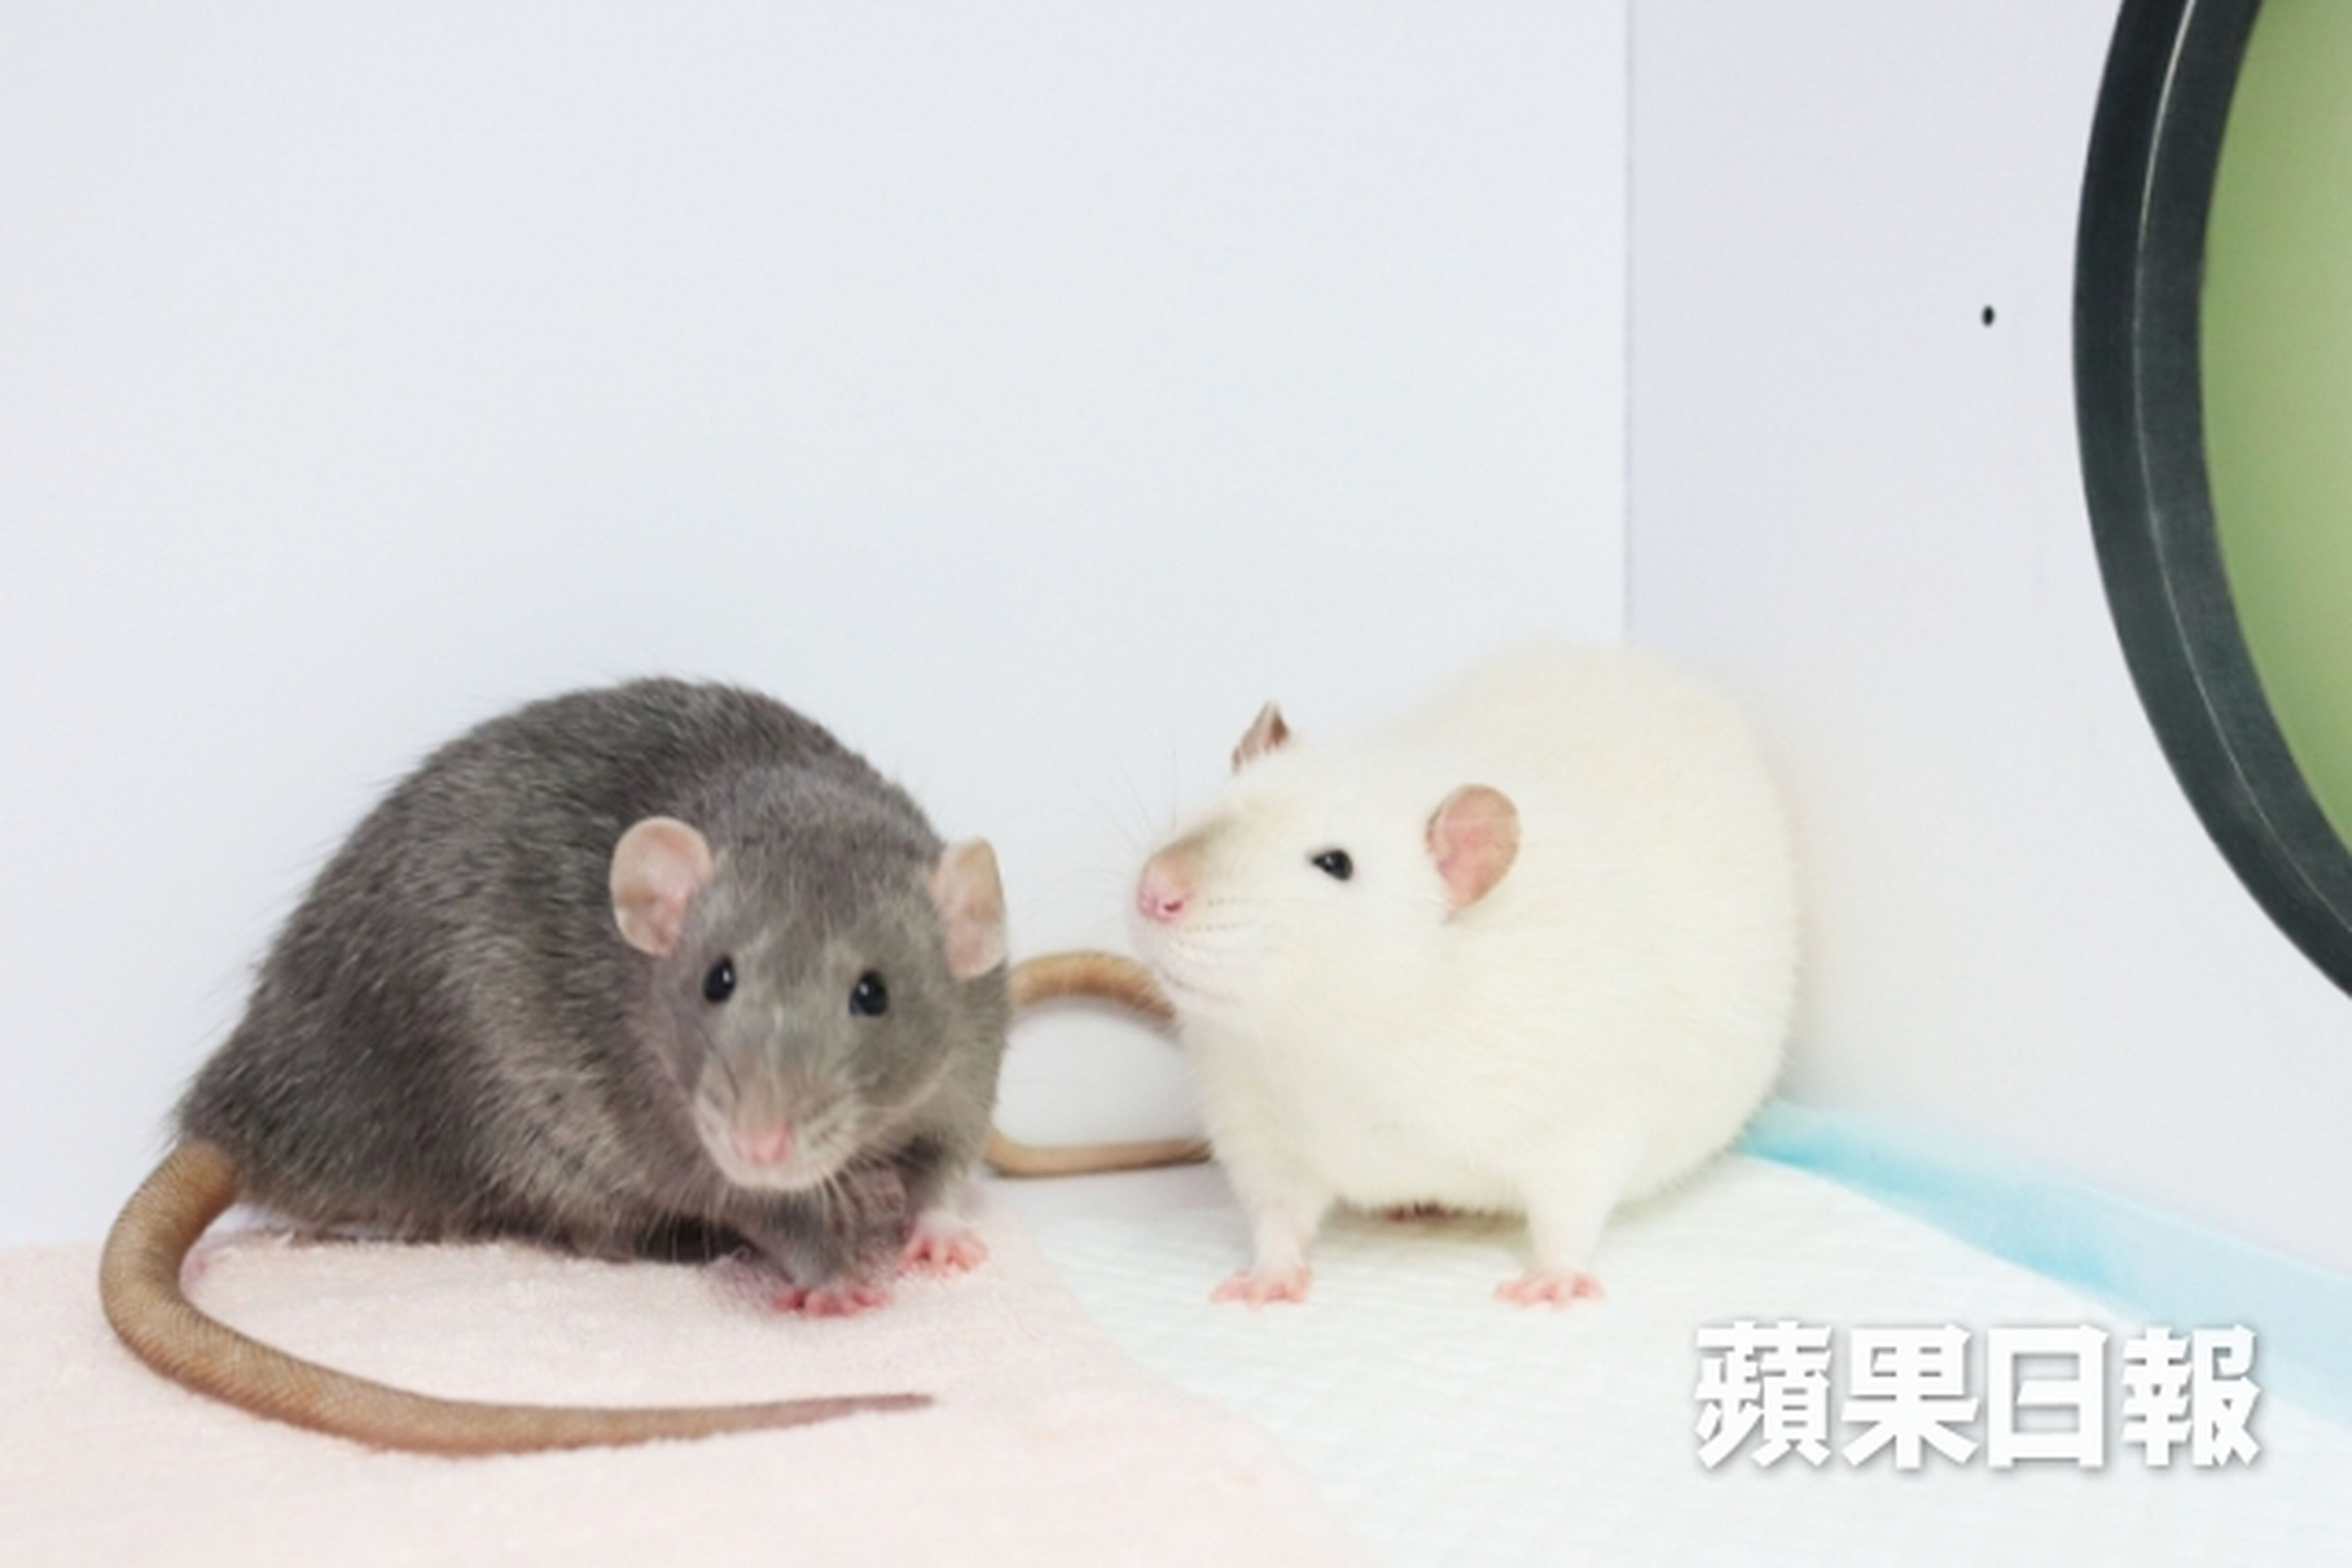mouse: (86, 635, 1013, 1409), (1080, 599, 1830, 1311)
